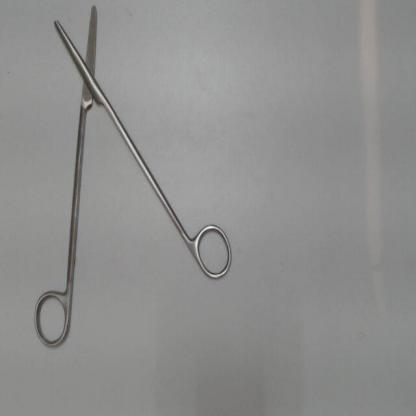9 Metzenbaum Scissors: (31, 2, 236, 354)
